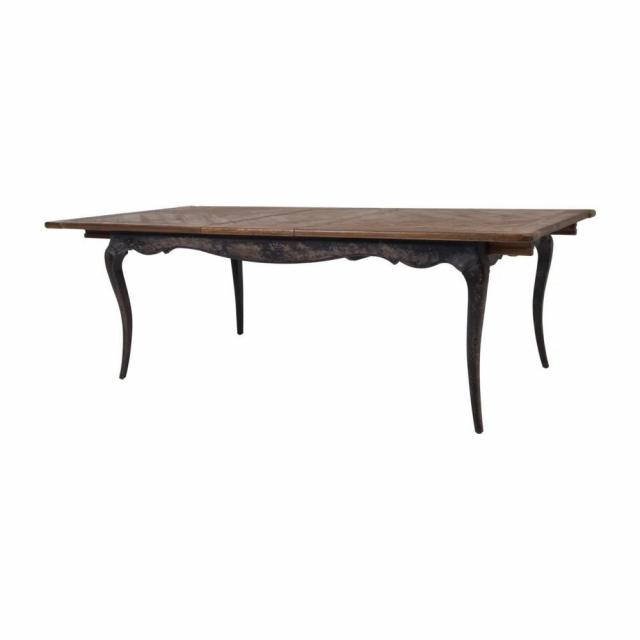Table: (35, 144, 610, 447)
